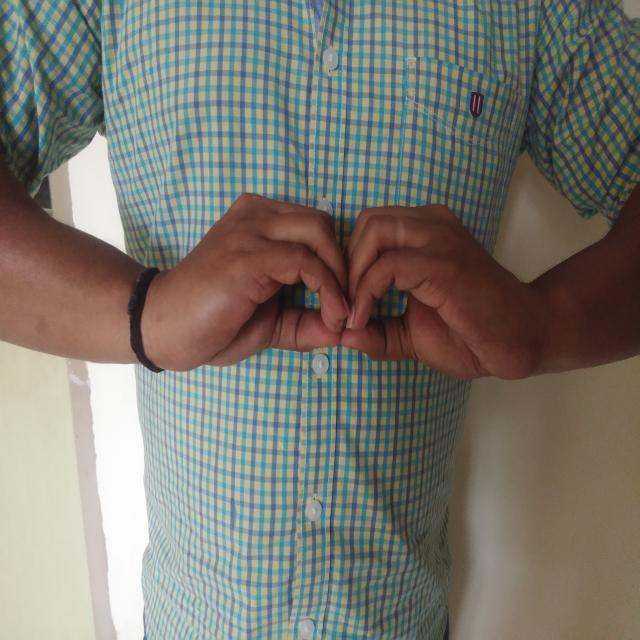B: (148, 186, 484, 352)
